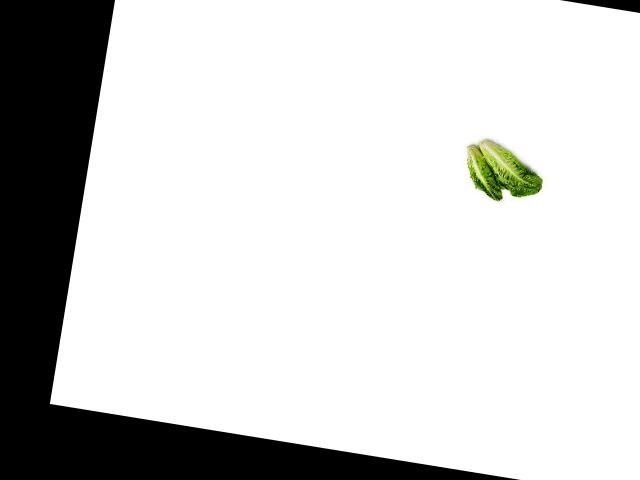lettuce: (476, 135, 548, 202)
